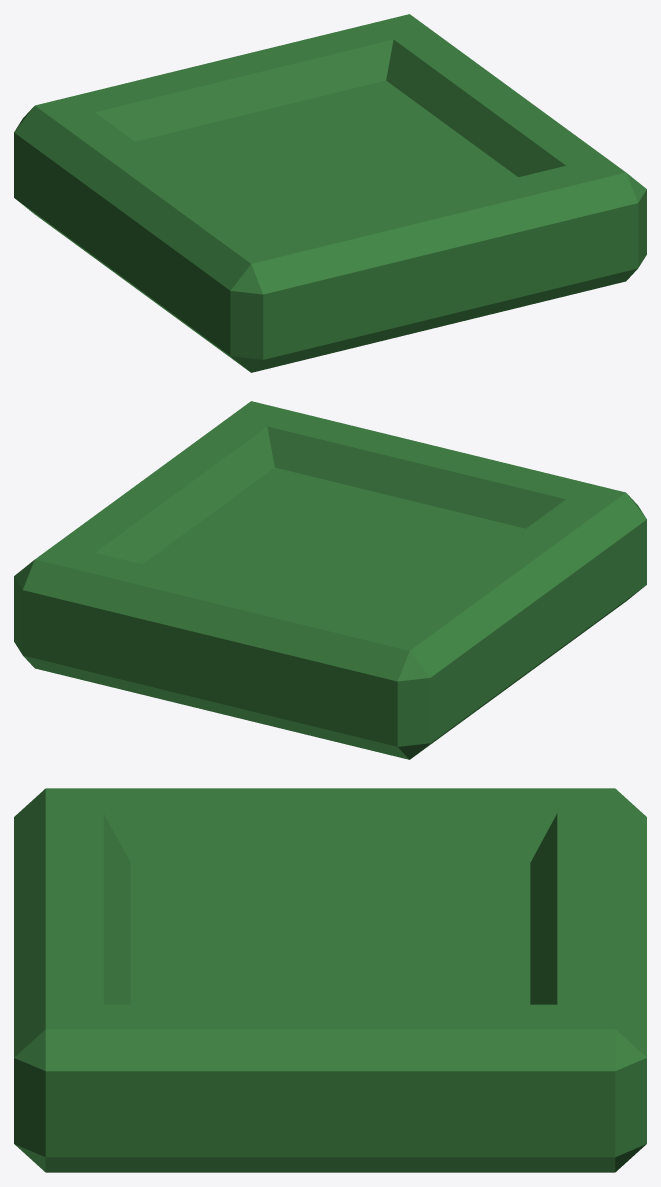
The model's file is m_dec_dung_button_base.fbx.
The picture shows the model from 3 angles, top to bottom: view 1: azimuth 30°, elevation 25°; view 2: azimuth 150°, elevation 25°; view 3: azimuth 270°, elevation 25°; orthographic projection. The views are drawn at different scales.
Parts seen in each view (by area): view 1: m_dec_dung_button_base; view 2: m_dec_dung_button_base; view 3: m_dec_dung_button_base.
Part boxes in pixels (x1,y1,x2,y2): m_dec_dung_button_base: [14, 14, 646, 372]; m_dec_dung_button_base: [14, 401, 646, 759]; m_dec_dung_button_base: [14, 788, 646, 1172].
Size of the model in its own units: 2 by 0.5 by 2.
